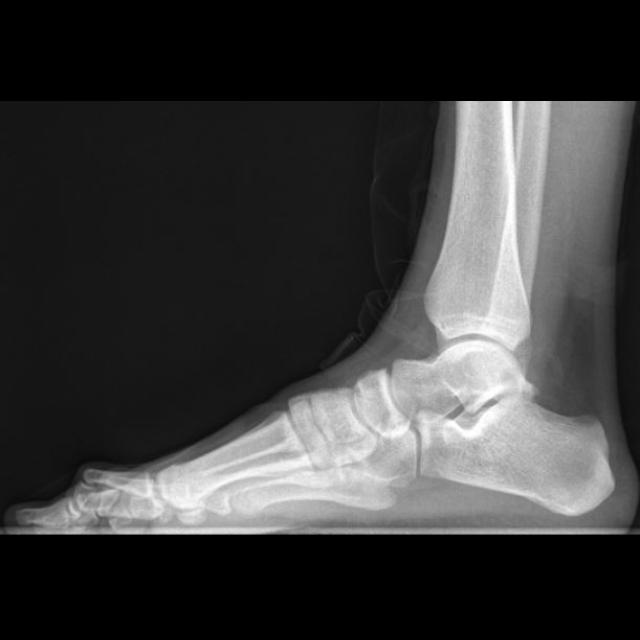a: (418, 396, 614, 515)
b: (352, 369, 410, 439)
c: (155, 411, 320, 524)
